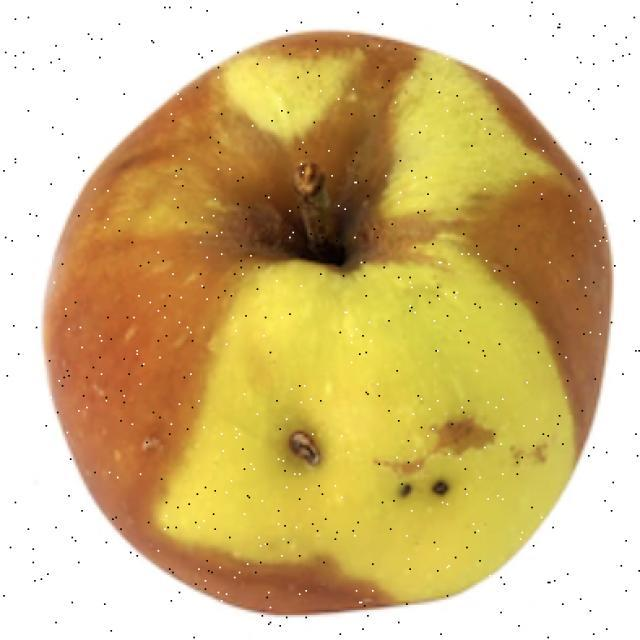Rotten: (60, 28, 605, 605)
